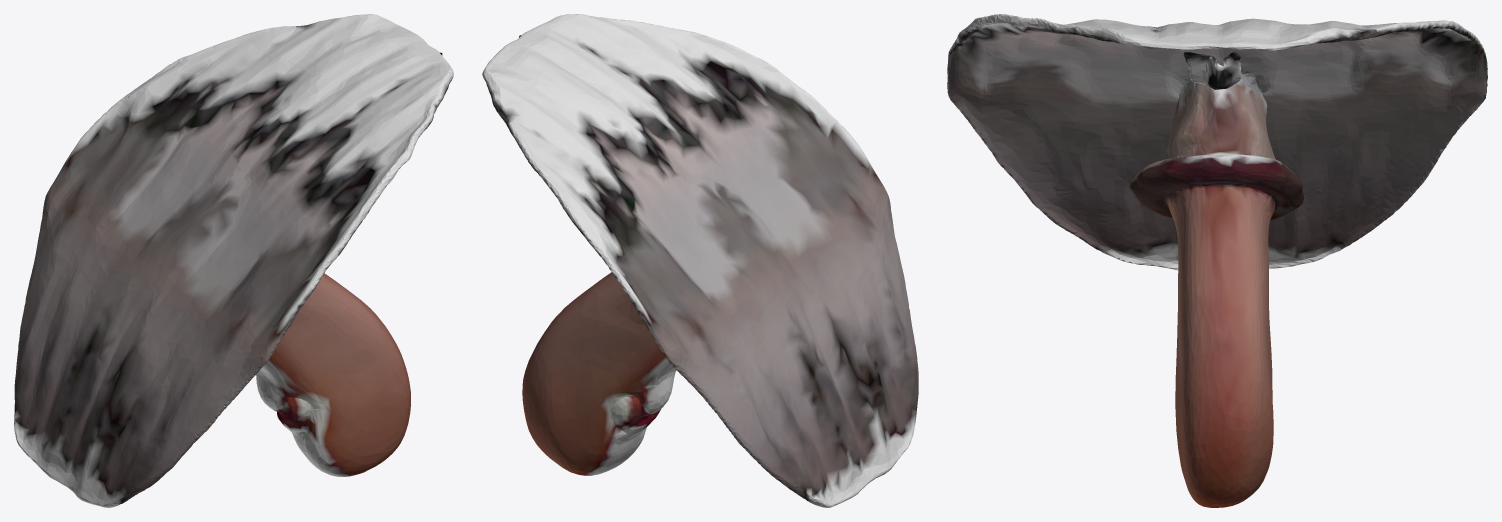
File: handcrossbow.glb
3 renders of one model, left to right at view 1: azimuth 30°, elevation 25°; view 2: azimuth 150°, elevation 25°; view 3: azimuth 270°, elevation 25°, orthographic. The views are drawn at different scales.
Visible parts, largest first — view 1: geometry_0; view 2: geometry_0; view 3: geometry_0.
Boxes of the visible parts, bbox=[...] form: geometry_0: bbox=[14, 14, 453, 507]; geometry_0: bbox=[482, 14, 918, 507]; geometry_0: bbox=[947, 14, 1487, 507].
Size of the model in its own units: 0.5625 by 0.6029 by 0.5877.
